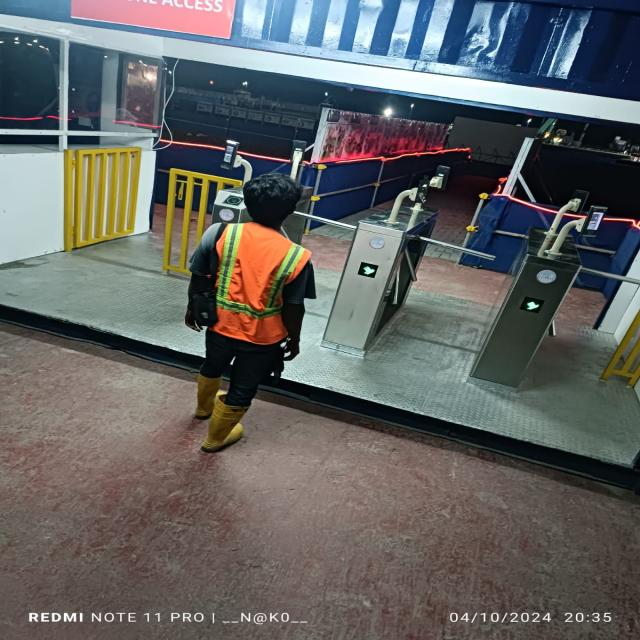safety_vest: (222, 222, 290, 344)
